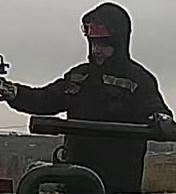gloves: (0, 76, 23, 101), (147, 111, 173, 122)
helmet: (81, 14, 115, 37)
vest: (64, 58, 150, 184)
